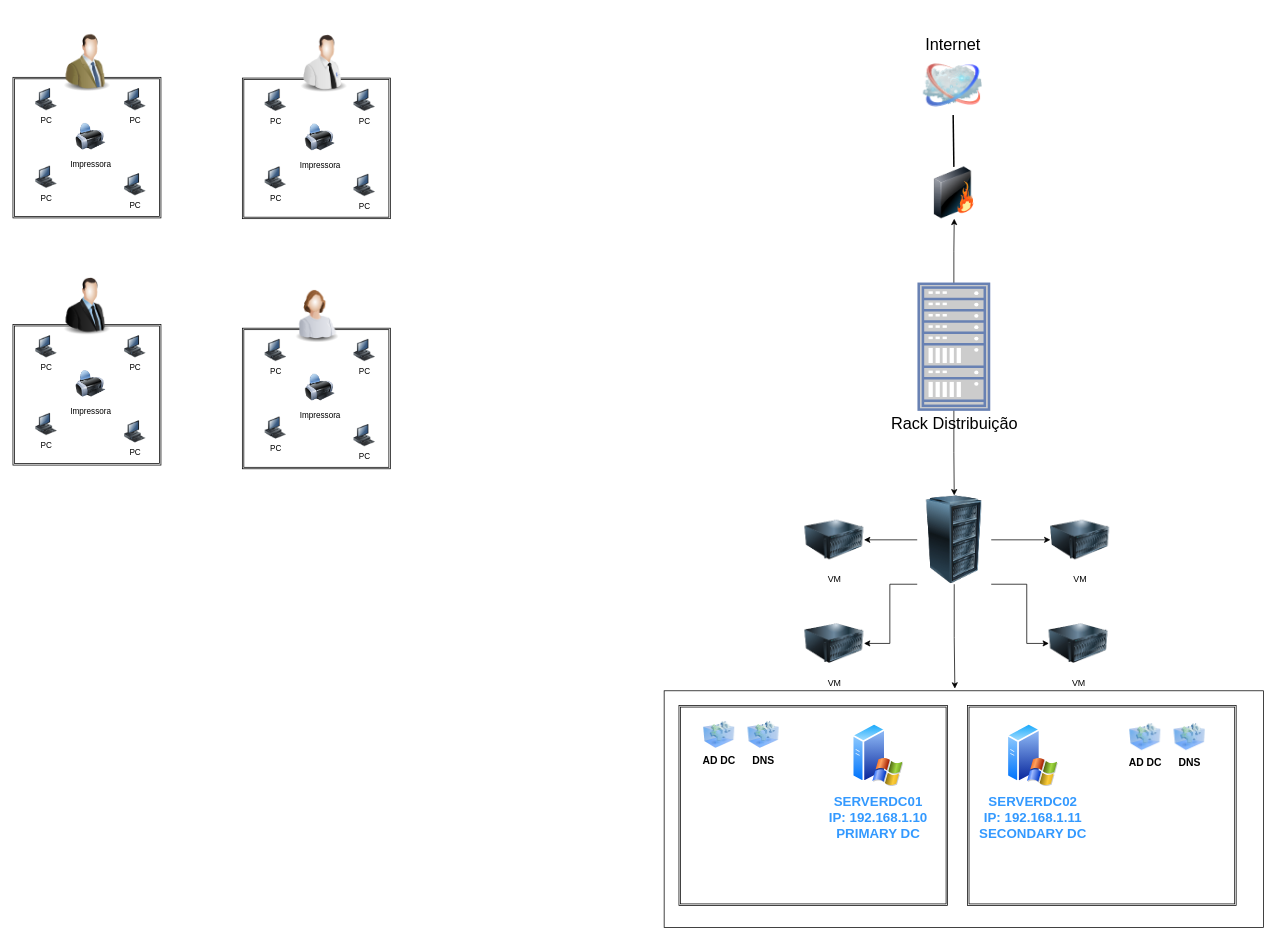
Some shapes in this 1277 by 941 pixel diagram are drawn without their labels. Here are the shapes that lost their labels. From the top down, the centre of each, then its label:
At [86,62]: "Diretores".
At [323,62]: "Financeiro".
At [953,192]: "Firewall".
At [86,305]: "Patrimônio".
At [316,313]: "RH".
At [954,539]: "Servidor de Virtualização".
